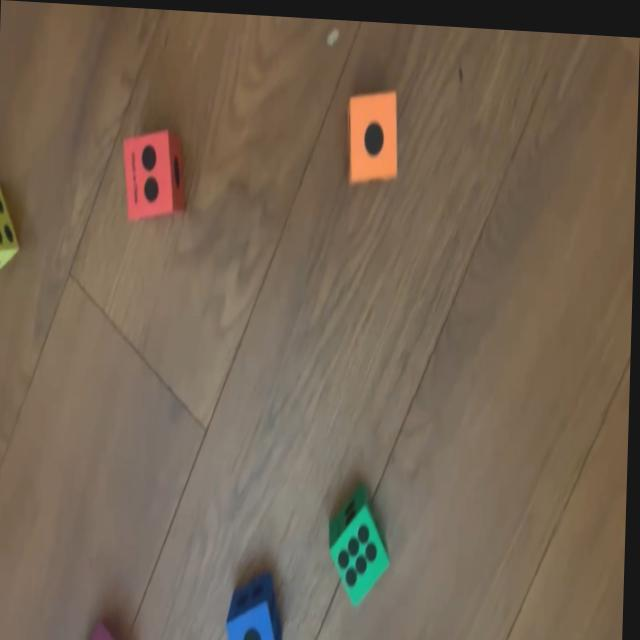blue_block: (230, 569, 287, 640)
red_block: (122, 125, 186, 222)
